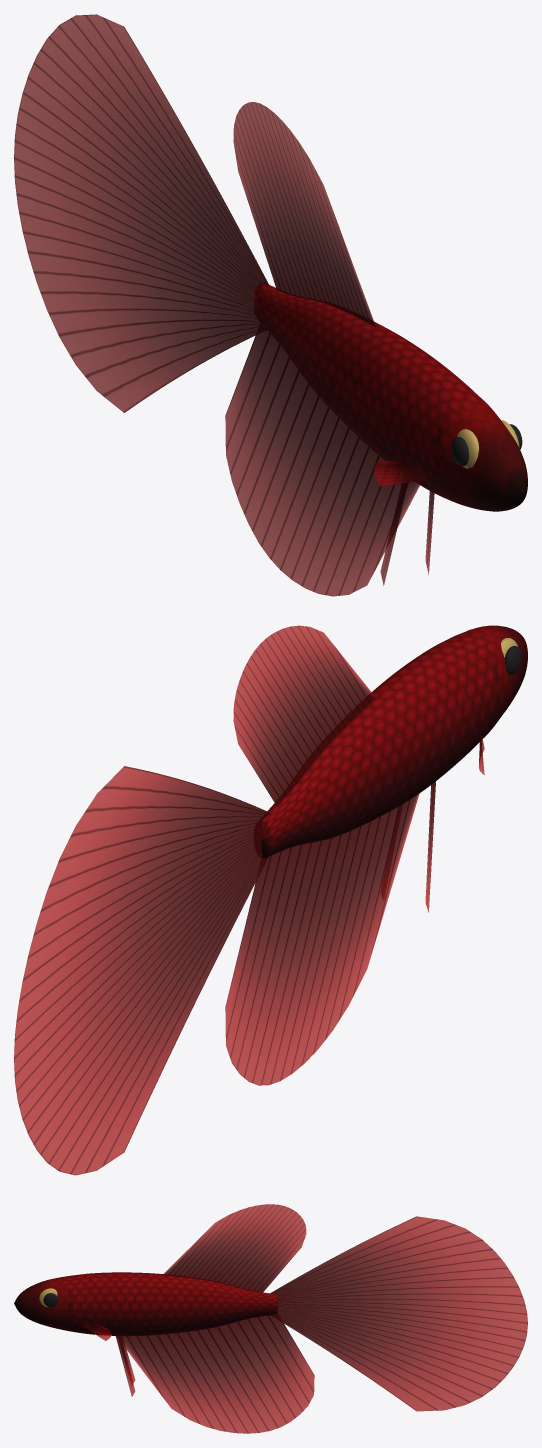
File: betta_2.glb
3 views of the same model, one above another, from view 1: azimuth 30°, elevation 25°; view 2: azimuth 150°, elevation 25°; view 3: azimuth 270°, elevation 25° (orthographic). The views are drawn at different scales.
Parts seen in each view (by area): view 1: fins, body; view 2: fins, body; view 3: fins, body.
Boxes of the visible parts, box(x1,y1,x2,y2) form: fins: box(14, 14, 434, 596); body: box(253, 283, 527, 511); fins: box(14, 625, 484, 1175); body: box(261, 625, 527, 858); fins: box(83, 1204, 527, 1433); body: box(14, 1272, 277, 1336).
Bounding box in the file's own units: 0.1448 × 0.5999 × 1.22.
Materials: 4 (2 with a texture image).
